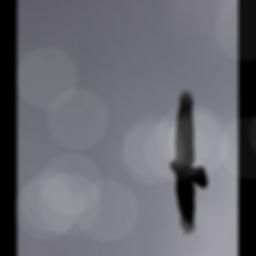Crow: (170, 88, 208, 234)
